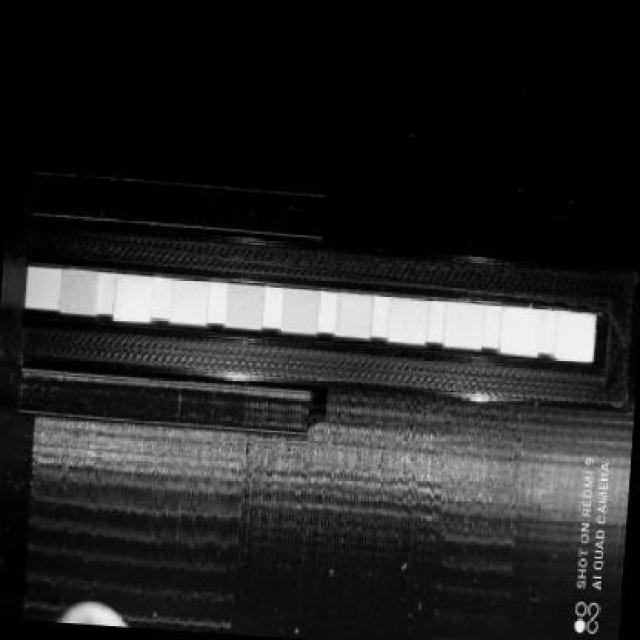Bilirubin: (118, 277, 150, 321)
Blood: (284, 290, 318, 332)
Glucose: (62, 270, 96, 314)
Ketone: (174, 282, 206, 325)
Leukocytes: (557, 314, 592, 360)
Nitrite: (504, 308, 536, 353)
Protein: (392, 299, 424, 343)
SpGravity: (229, 286, 262, 326)
background: (0, 0, 640, 640)
pH: (338, 294, 371, 336)
strip: (26, 268, 596, 358), (446, 304, 480, 348)
